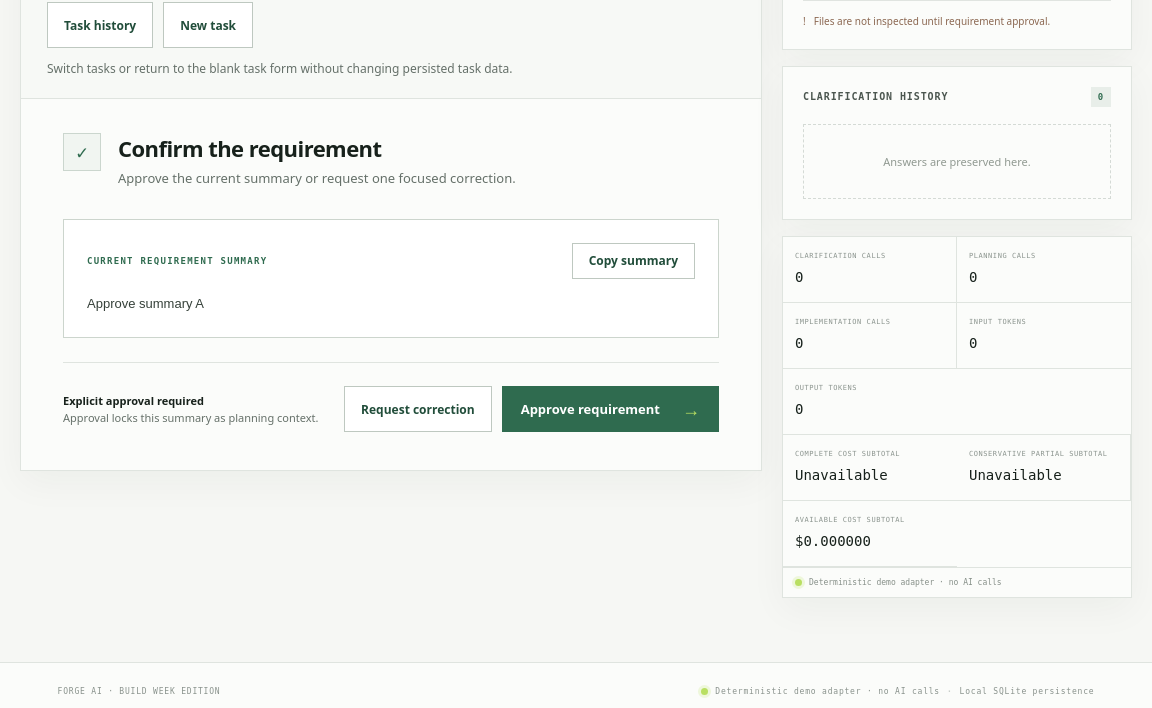
Test: App task navigation hardening › ignores a stale task action after navigation back to the new-task page and clears busy state
(page scrolled)
Click the button "Approve requirement →" at point(610, 409), box 502,386 -> 719,432
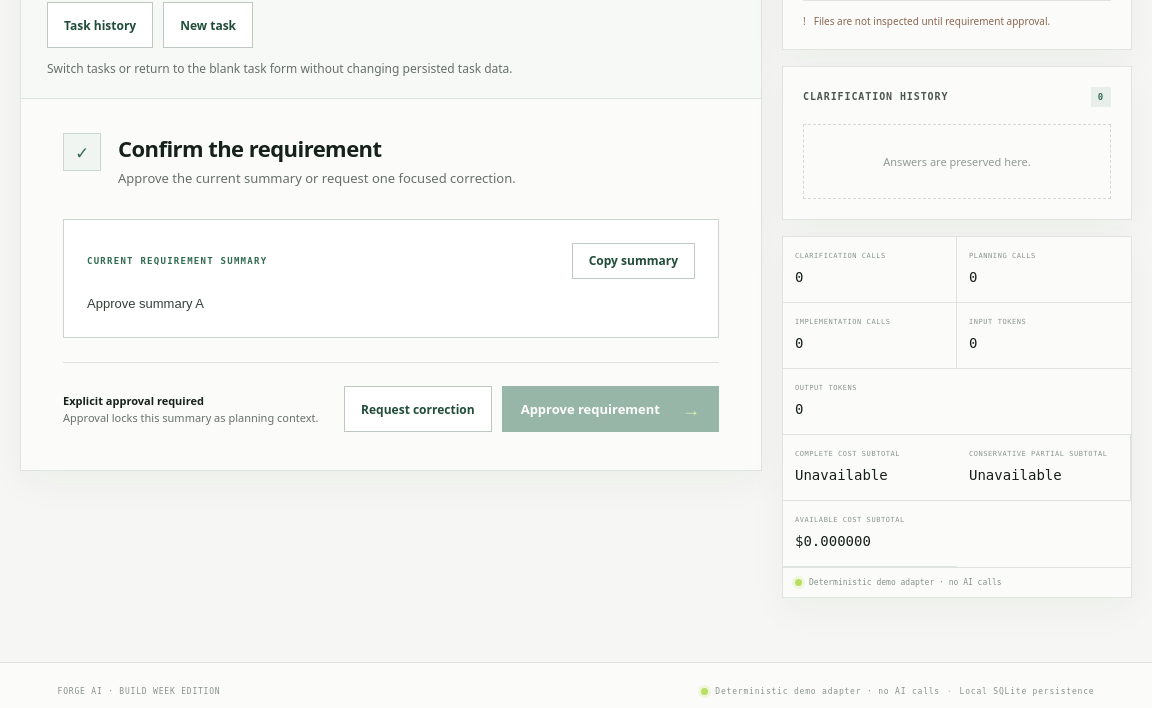
Click the button "New task" at point(208, 25), box 163,2 -> 253,48
(page scrolled)
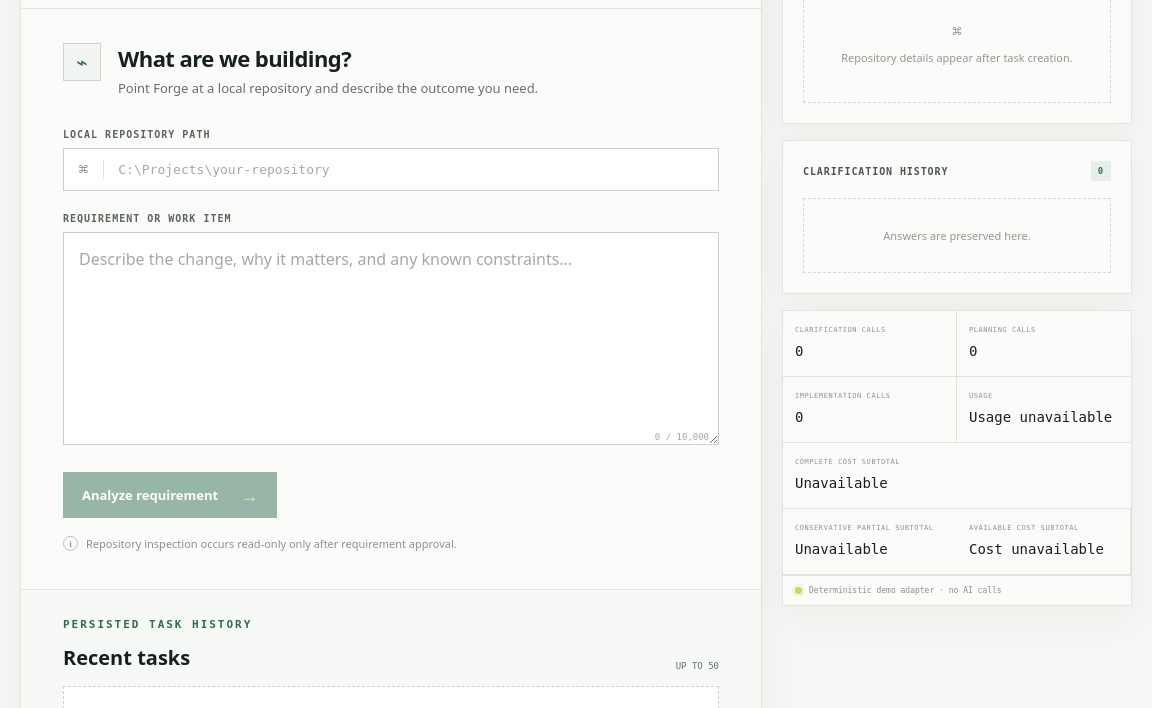
Expected: the text "What are we building?" is shown, 118,43 -> 351,73
